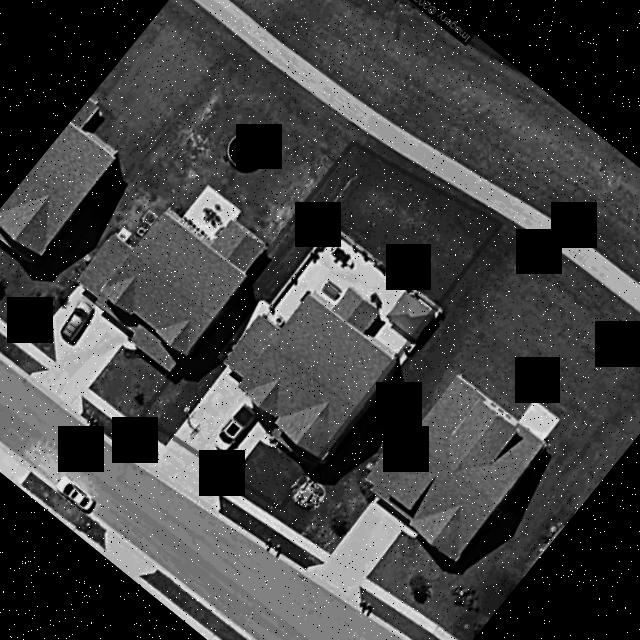Driveway: (173, 368, 280, 472)
Extra Driveway: (141, 440, 232, 512)
Extra Lawn: (219, 496, 266, 538), (226, 478, 277, 513), (116, 431, 155, 457), (136, 415, 169, 443)
Extra Sidewalk: (220, 485, 274, 524), (128, 419, 165, 452)
House: (240, 295, 390, 454), (227, 316, 274, 373)
Other: (333, 288, 382, 335), (387, 292, 430, 337), (322, 280, 340, 299), (332, 247, 349, 265), (370, 292, 382, 308)
